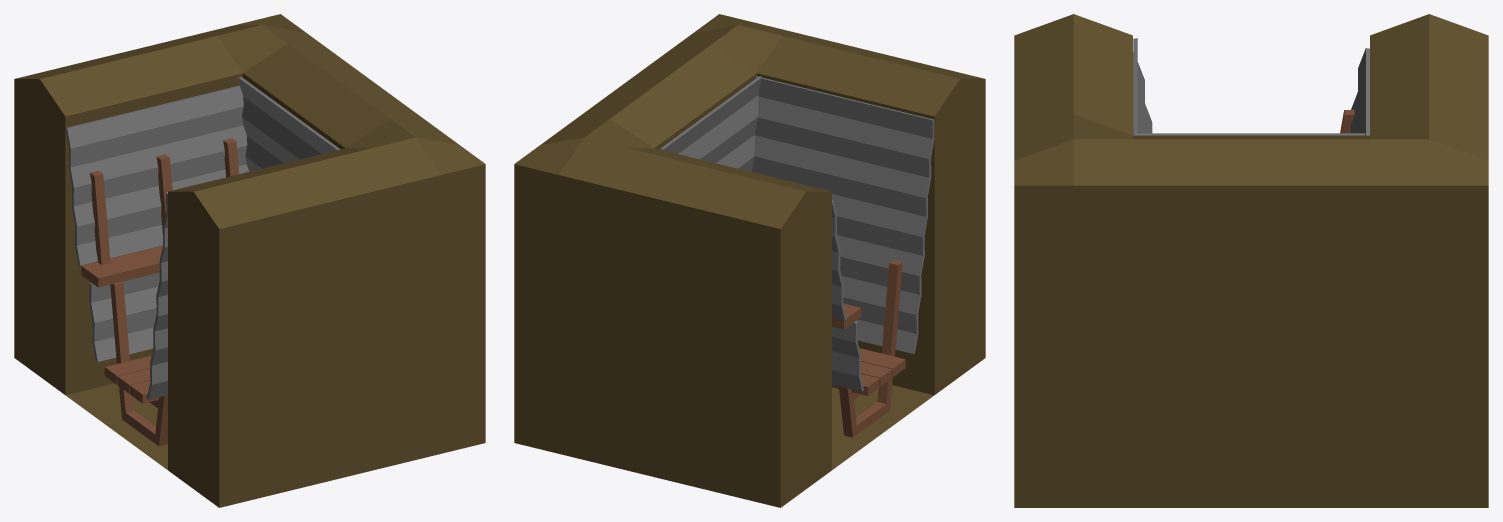
File: Trench End.fbx
The picture shows the model from 3 angles, left to right: view 1: azimuth 30°, elevation 25°; view 2: azimuth 150°, elevation 25°; view 3: azimuth 270°, elevation 25°; orthographic projection. The views are drawn at different scales.
Visible parts, largest first — view 1: Trench Dirt End, Trench End; view 2: Trench Dirt End, Trench End; view 3: Trench Dirt End, Trench End.
Boxes of the visible parts, x1,y1,x2,y2 form: Trench Dirt End: [14, 14, 485, 507]; Trench End: [65, 77, 340, 446]; Trench Dirt End: [514, 14, 985, 507]; Trench End: [659, 76, 934, 437]; Trench Dirt End: [1014, 14, 1488, 507]; Trench End: [1133, 38, 1369, 135].
Bounding box in the file's own units: 1500 × 1600 × 2000.
